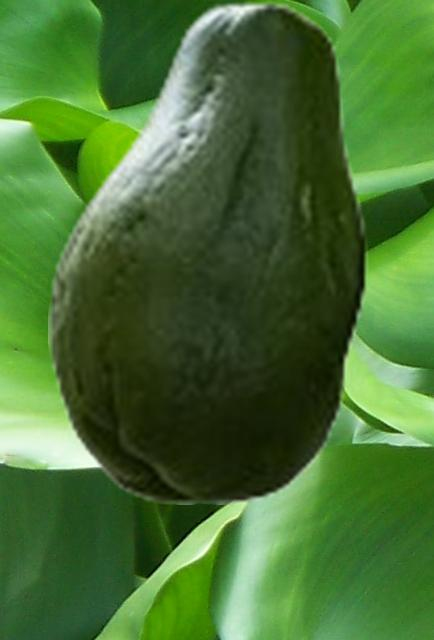sayote: (48, 0, 367, 503)
